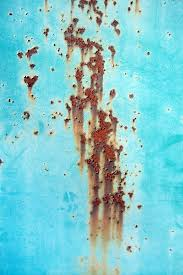rust: (67, 21, 139, 227), (17, 44, 46, 88)
